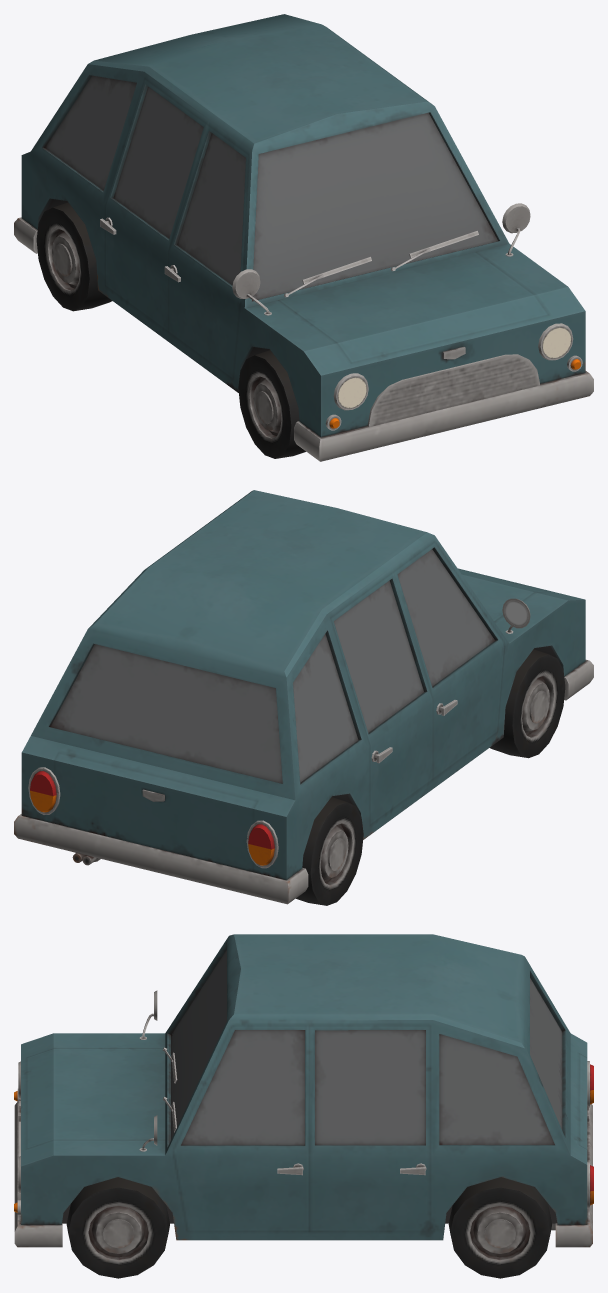
Rendered from SM_Props_Car_01.glb.
3 views of the same model, one above another, from view 1: azimuth 30°, elevation 25°; view 2: azimuth 150°, elevation 25°; view 3: azimuth 270°, elevation 25° (orthographic). The views are drawn at different scales.
Visible parts, largest first — view 1: SM_Props_Car_01; view 2: SM_Props_Car_01; view 3: SM_Props_Car_01.
Part boxes in pixels (x1=…): SM_Props_Car_01: x1=14, y1=14, x2=593, y2=461; SM_Props_Car_01: x1=14, y1=490, x2=593, y2=905; SM_Props_Car_01: x1=14, y1=934, x2=593, y2=1278.
Size of the model in its own units: 1.85 by 1.56 by 3.3.
1 material, 1 textured.
